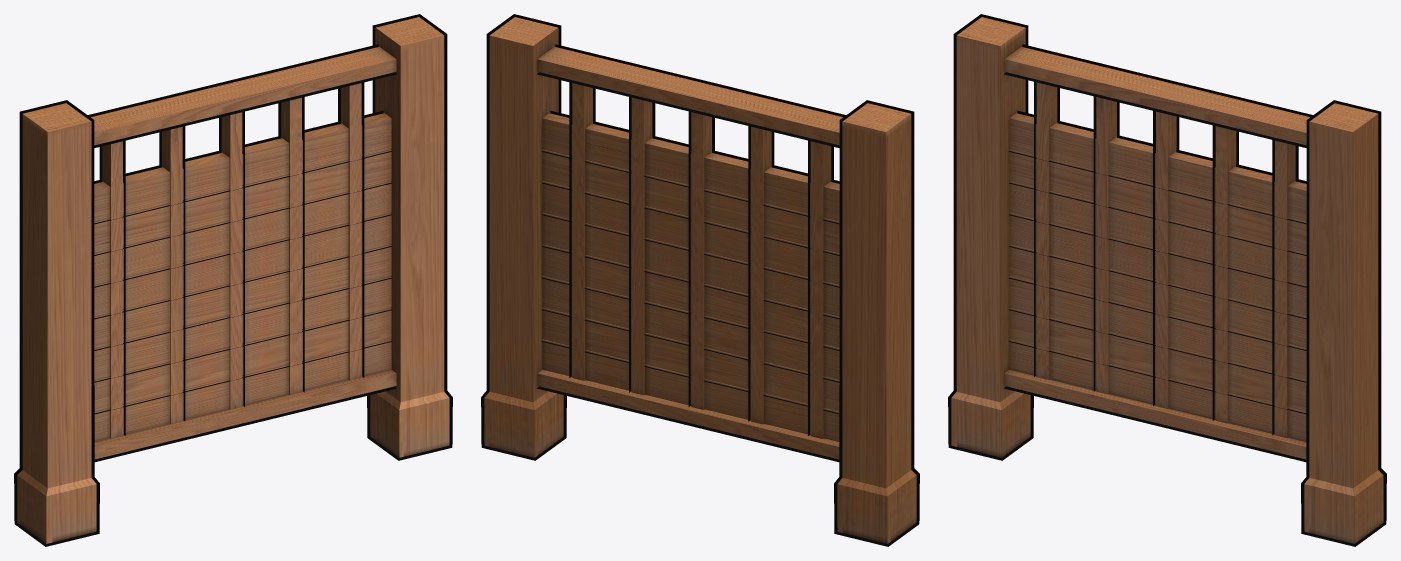
File: cb46888f-ff10-48dd-bde8-bbcaca009f77.glb
3 views of the same model, side by side, from view 1: azimuth 30°, elevation 25°; view 2: azimuth 150°, elevation 25°; view 3: azimuth 330°, elevation 25° (orthographic).
Visible parts, largest first — view 1: animeFence; view 2: animeFence; view 3: animeFence.
Part boxes in pixels (bbox=[...]): animeFence: bbox=[14, 14, 452, 546]; animeFence: bbox=[481, 14, 919, 546]; animeFence: bbox=[948, 14, 1386, 546].
Size of what is drawn, in the model's own units: 2.02 by 1.96 by 0.2702.
2 materials, 1 textured.
